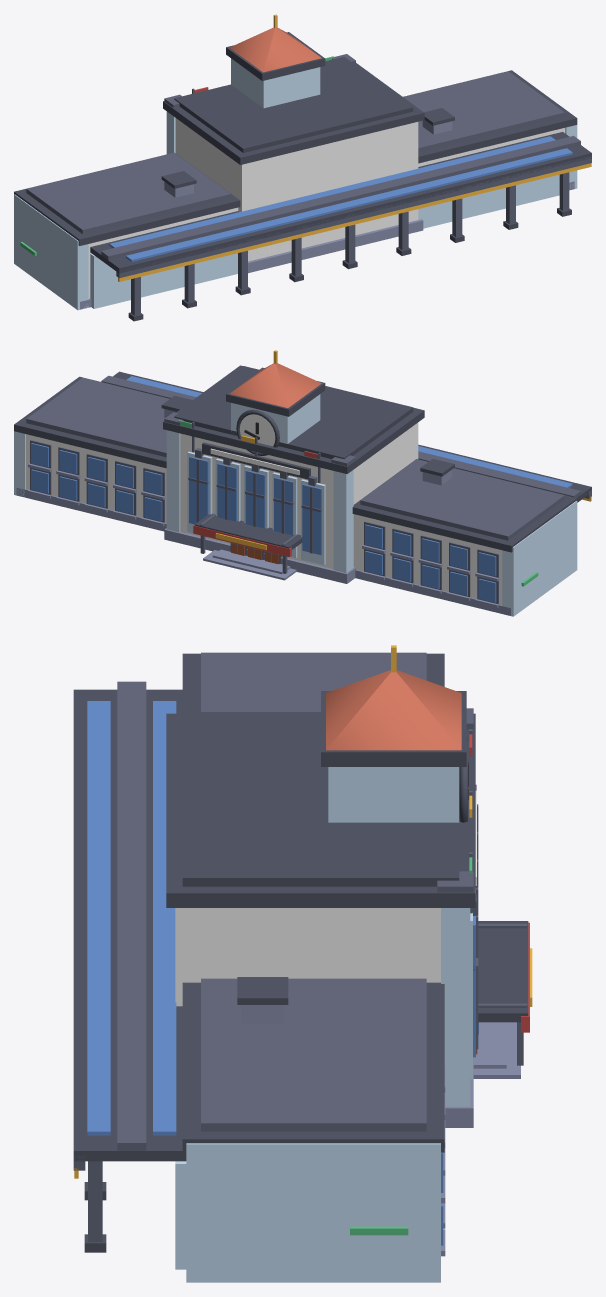
Rendered from gare.glb.
3 renders of one model, top to bottom at view 1: azimuth 30°, elevation 25°; view 2: azimuth 150°, elevation 25°; view 3: azimuth 270°, elevation 25°, orthographic. The views are drawn at different scales.
Parts seen in each view (by area): view 1: hall_body_1, hall_roof_4, wing_W_roof_65, wing_E_roof_104, rear_wall_173, canopy_deck_140, canopy_ridge_143, wing_W_end_pilaster_66, canopy_skylight_145, hall_cornice_3, canopy_edge_beam_141, wing_W_cornice_64 (+16 smaller); view 2: wing_W_roof_65, hall_roof_4, wing_E_roof_104, hall_body_1, wing_W_end_pilaster_66, hall_cornice_3, wing_W_body_62, wing_W_cornice_64, wing_E_body_101, tower_roof, hall_pilaster_5, wing_E_cornice_103 (+49 smaller); view 3: wing_E_end_pilaster_105, hall_roof_4, wing_E_roof_104, hall_body_1, canopy_deck_140, canopy_ridge_143, hall_cornice_3, canopy_skylight_145, wing_W_roof_65, tower_roof, wing_E_cornice_103, canopy_skylight_144 (+11 smaller).
Part boxes in pixels (x1,y1,x2,y2): hall_body_1: (175, 118, 418, 261); hall_roof_4: (174, 57, 413, 152); wing_W_roof_65: (26, 152, 230, 234); wing_E_roof_104: (403, 71, 564, 152); rear_wall_173: (90, 174, 559, 308); canopy_deck_140: (90, 132, 591, 273); canopy_ridge_143: (101, 136, 580, 260); wing_W_end_pilaster_66: (14, 194, 88, 310); canopy_skylight_145: (126, 148, 572, 261); hall_cornice_3: (163, 63, 424, 164); canopy_edge_beam_141: (116, 156, 591, 278); wing_W_cornice_64: (14, 153, 240, 245); wing_W_roof_65: (360, 459, 564, 540); hall_roof_4: (174, 366, 413, 459); wing_E_roof_104: (26, 377, 169, 457); hall_body_1: (180, 422, 418, 568); wing_W_end_pilaster_66: (502, 501, 577, 616); hall_cornice_3: (163, 365, 424, 473); wing_W_body_62: (353, 514, 502, 604); wing_W_cornice_64: (352, 459, 577, 552); wing_E_body_101: (26, 434, 166, 523); tower_roof: (229, 363, 321, 407); hall_pilaster_5: (333, 470, 353, 572); wing_E_cornice_103: (14, 376, 168, 468); wing_E_end_pilaster_105: (186, 1143, 440, 1282); hall_roof_4: (182, 712, 459, 886); wing_E_roof_104: (201, 978, 426, 1131); hall_body_1: (175, 908, 440, 1006); canopy_deck_140: (73, 689, 186, 1161); canopy_ridge_143: (117, 681, 146, 1150); hall_cornice_3: (166, 713, 475, 907); canopy_skylight_145: (87, 701, 110, 1135); wing_W_roof_65: (201, 652, 426, 711); tower_roof: (326, 670, 461, 750); wing_E_cornice_103: (182, 982, 444, 1152); canopy_skylight_144: (153, 701, 176, 1135).
Size of the model in its own units: 160 by 59.55 by 63.05.
